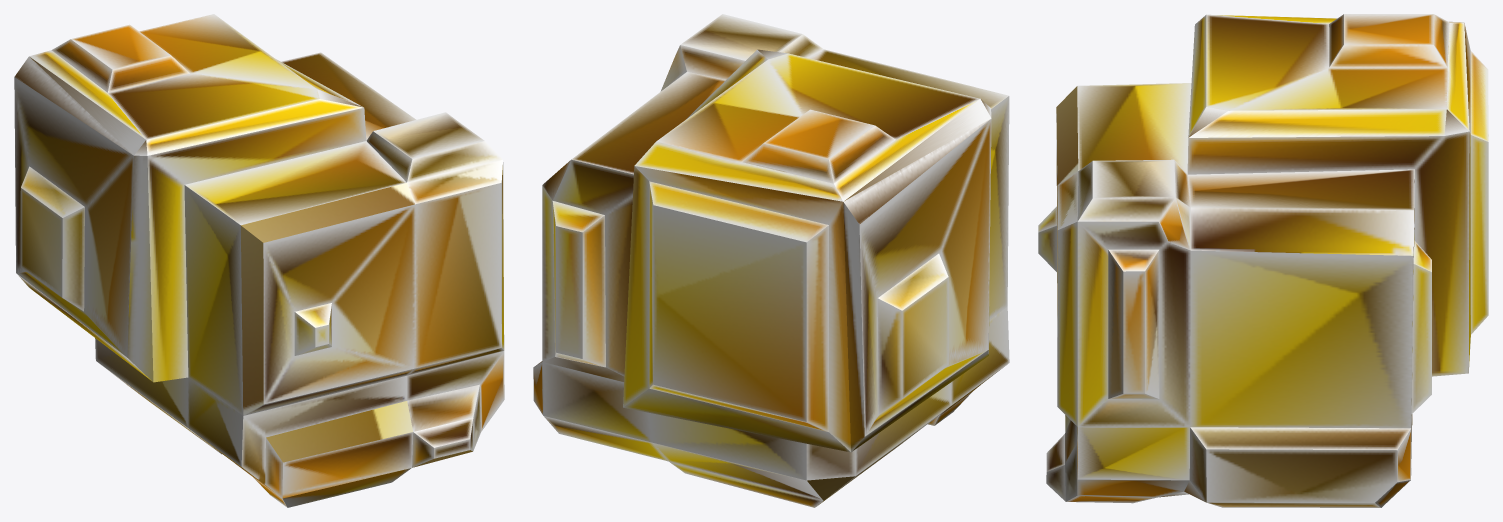
File: Crystal10.FBX
The picture shows the model from 3 angles, left to right: view 1: azimuth 30°, elevation 25°; view 2: azimuth 150°, elevation 25°; view 3: azimuth 270°, elevation 25°; orthographic projection. The views are drawn at different scales.
Parts seen in each view (by area): view 1: Crystal10; view 2: Crystal10; view 3: Crystal10.
Boxes of the visible parts, left/top/right/bottom form: Crystal10: left=14, top=14, right=504, bottom=507; Crystal10: left=533, top=14, right=1009, bottom=507; Crystal10: left=1038, top=14, right=1488, bottom=507.
Bounding box in the file's own units: 25.08 × 25.35 × 26.75.
